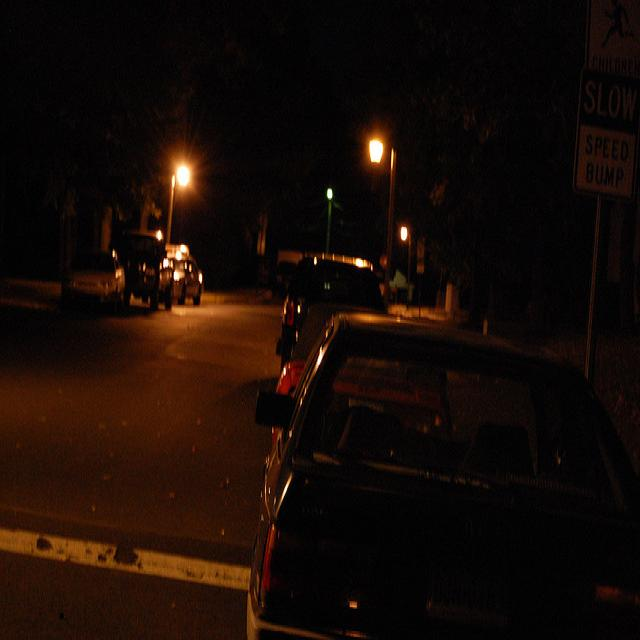Car: (273, 222, 607, 640), (10, 215, 211, 348)
